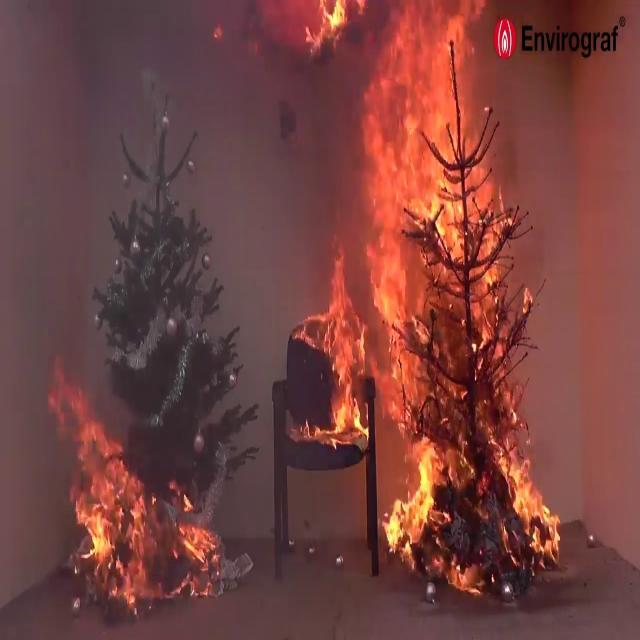Fire: (319, 0, 568, 572), (63, 426, 229, 614), (298, 246, 369, 454)
